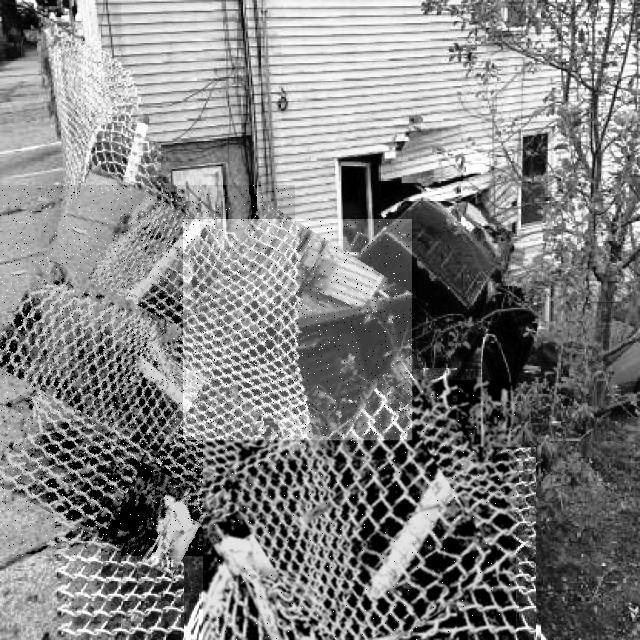anomaly-fence: (0, 185, 295, 556), (203, 380, 516, 640), (183, 219, 412, 440)
